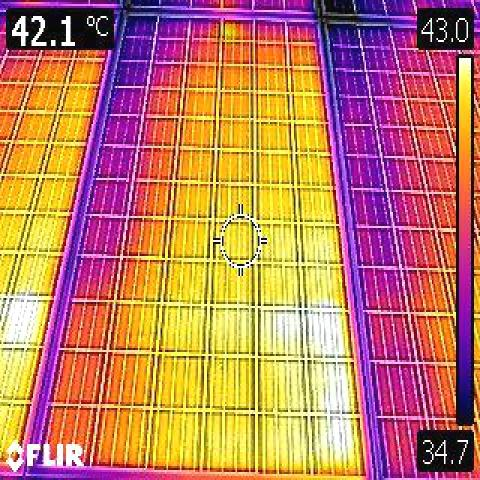fault: (312, 298, 350, 461), (0, 298, 50, 343), (214, 22, 240, 44)
